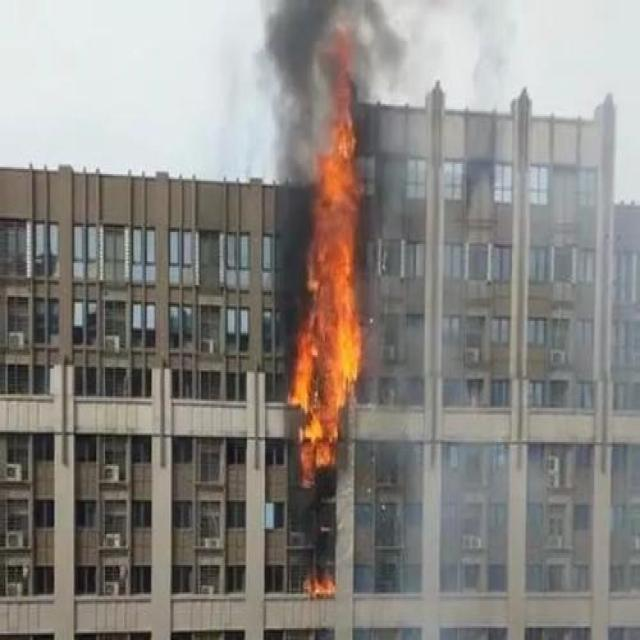Fire: (286, 42, 368, 510), (299, 560, 342, 602)
Smoke: (392, 308, 564, 636)
